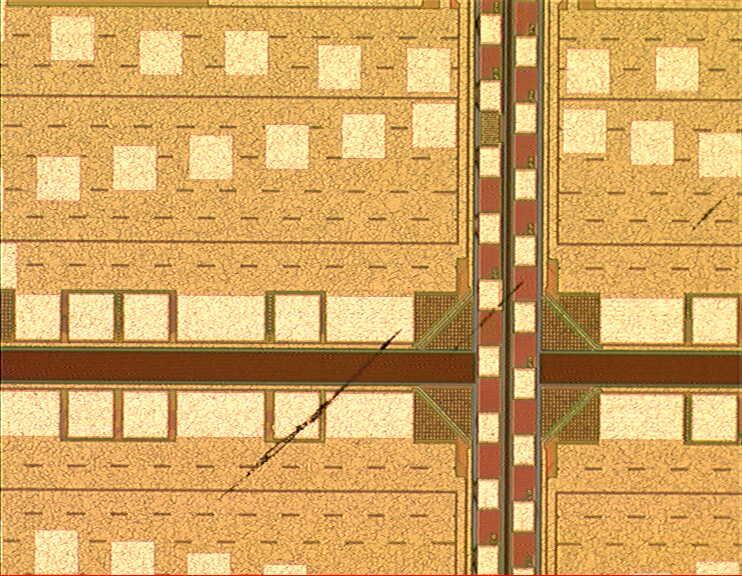SCRATCH: (199, 175, 742, 516)
